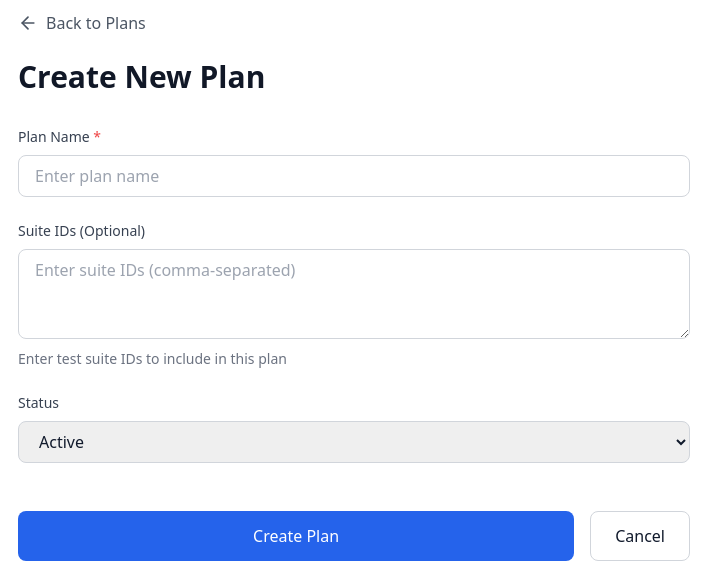
Test: PlanForm › Loading States › should disable form during submission
The image size is (709, 578).
Expected: the heading "Create New Plan" is shown, x1=18 y1=56 x2=265 y2=97
Type "New Plan" into the field labelled "Plan Name *".
click(354, 176); type("New Plan")  # box x1=18 y1=155 x2=690 y2=197
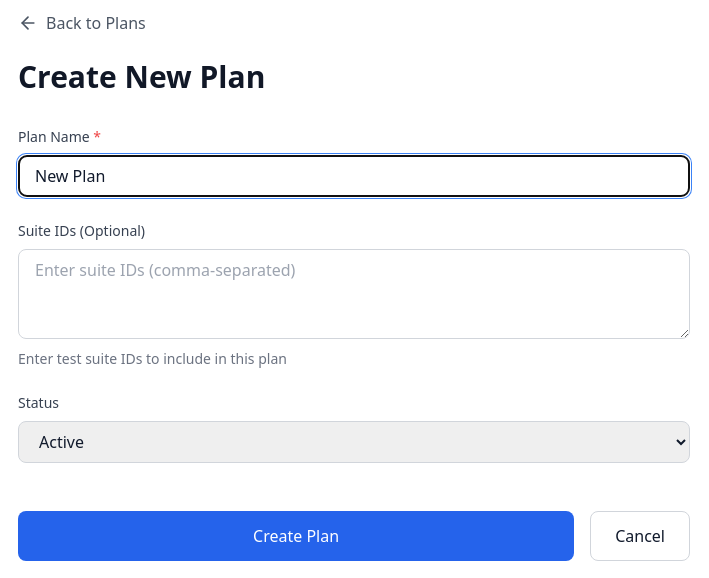
Click the button "Create Plan".
click(296, 536)  # box x1=18 y1=511 x2=574 y2=561
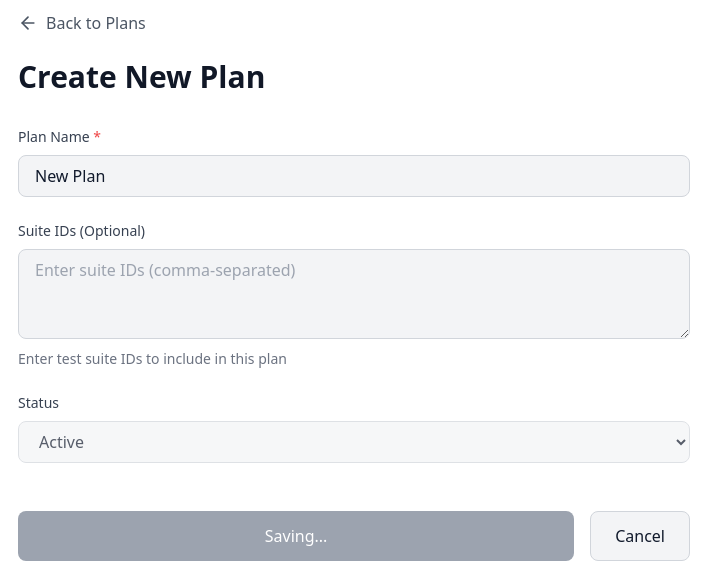
Expected: the button "Saving..." is shown, x1=18 y1=511 x2=574 y2=561
